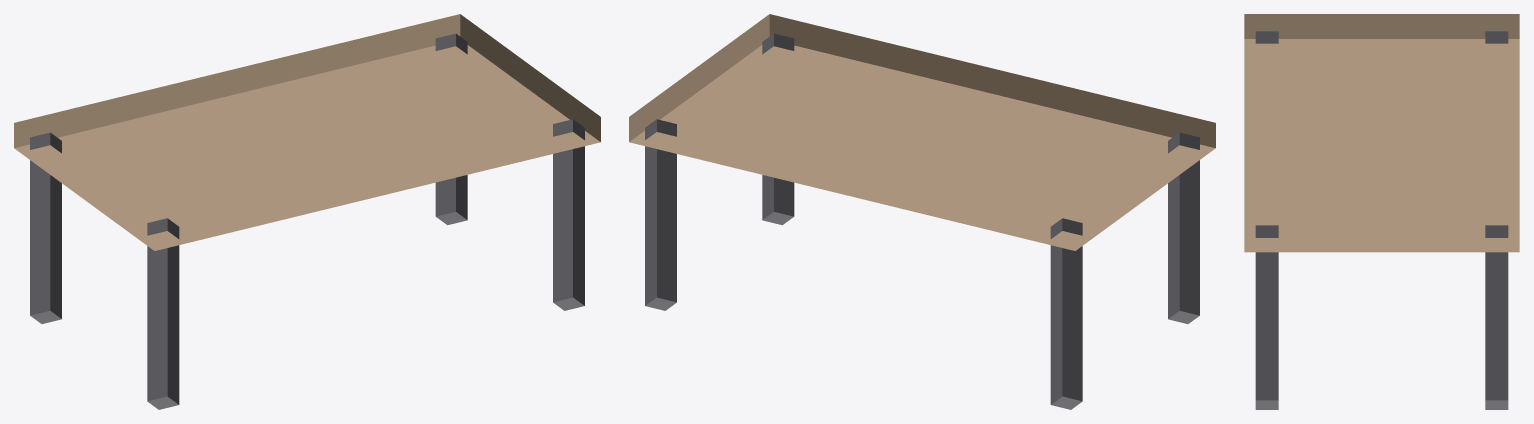
The model's file is coffee-table.glb.
3 views of the same model, side by side, from view 1: azimuth 30°, elevation 25°; view 2: azimuth 150°, elevation 25°; view 3: azimuth 270°, elevation 25° (orthographic).
Bounding box in the file's own units: 1.1 × 0.45 × 0.6.
